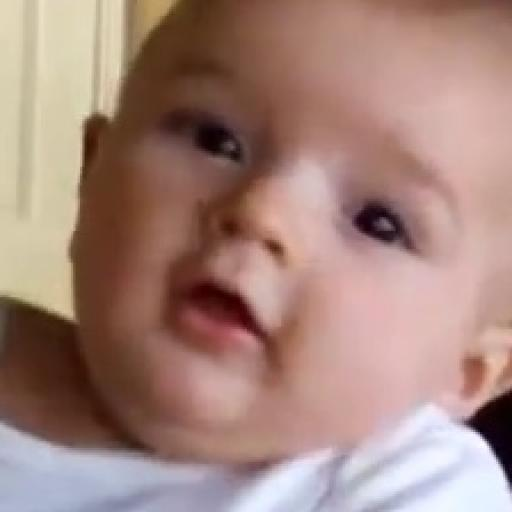Autism: (92, 17, 506, 444)
